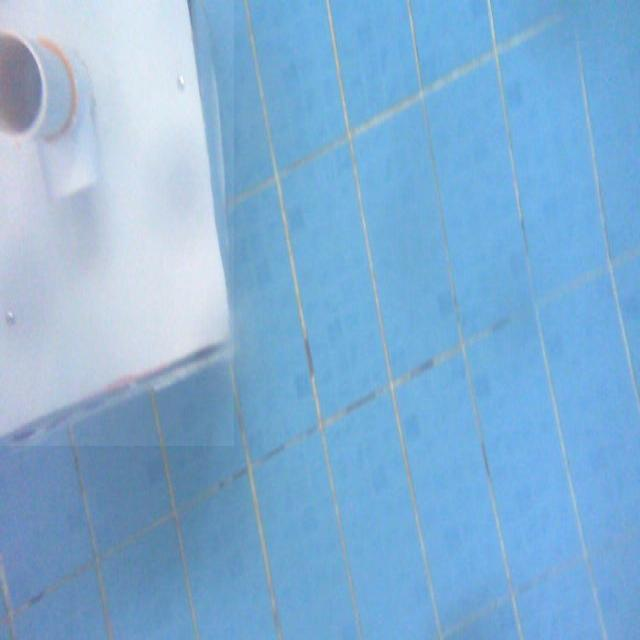Cube: (0, 0, 234, 446)
